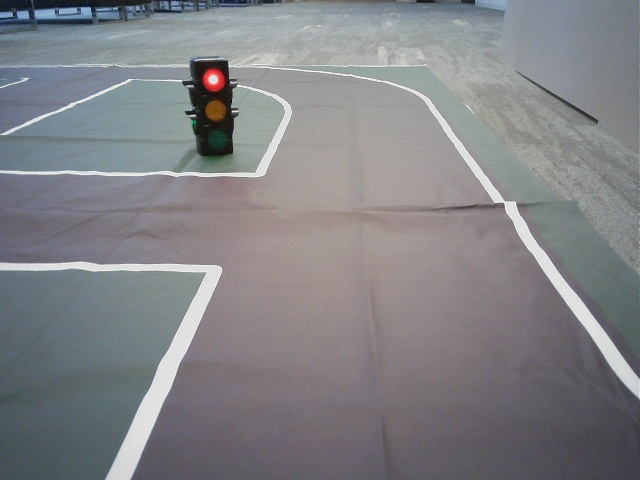red: (197, 64, 229, 152)
